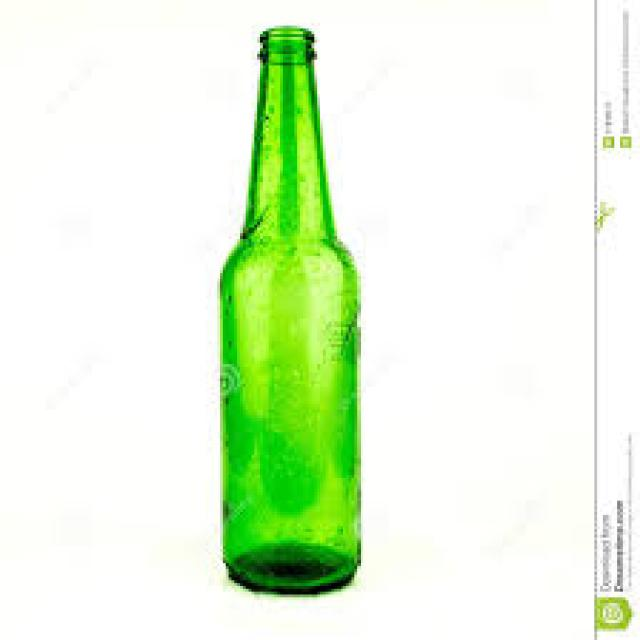glass: (220, 26, 354, 592)
